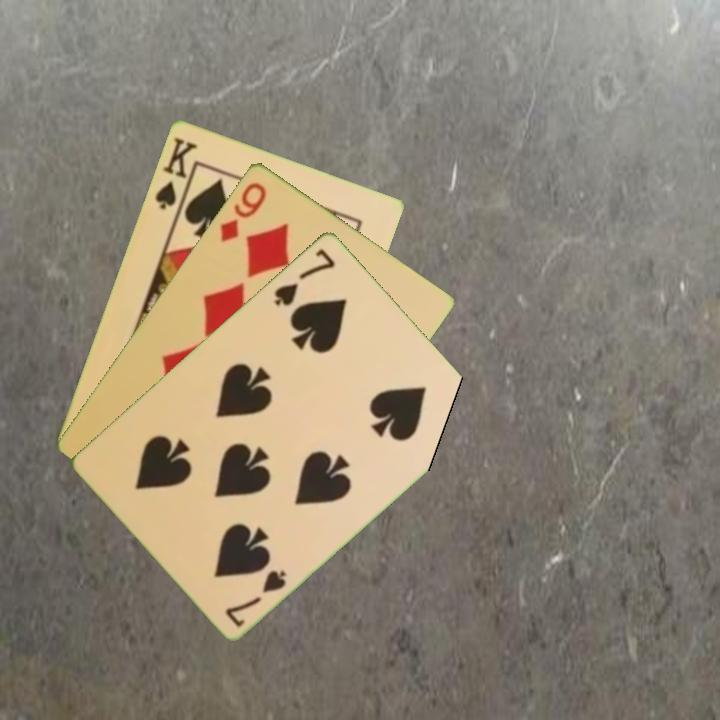7s: (221, 565, 290, 630), (270, 244, 338, 309)
9d: (216, 177, 270, 245)
Ks: (151, 133, 200, 217)
